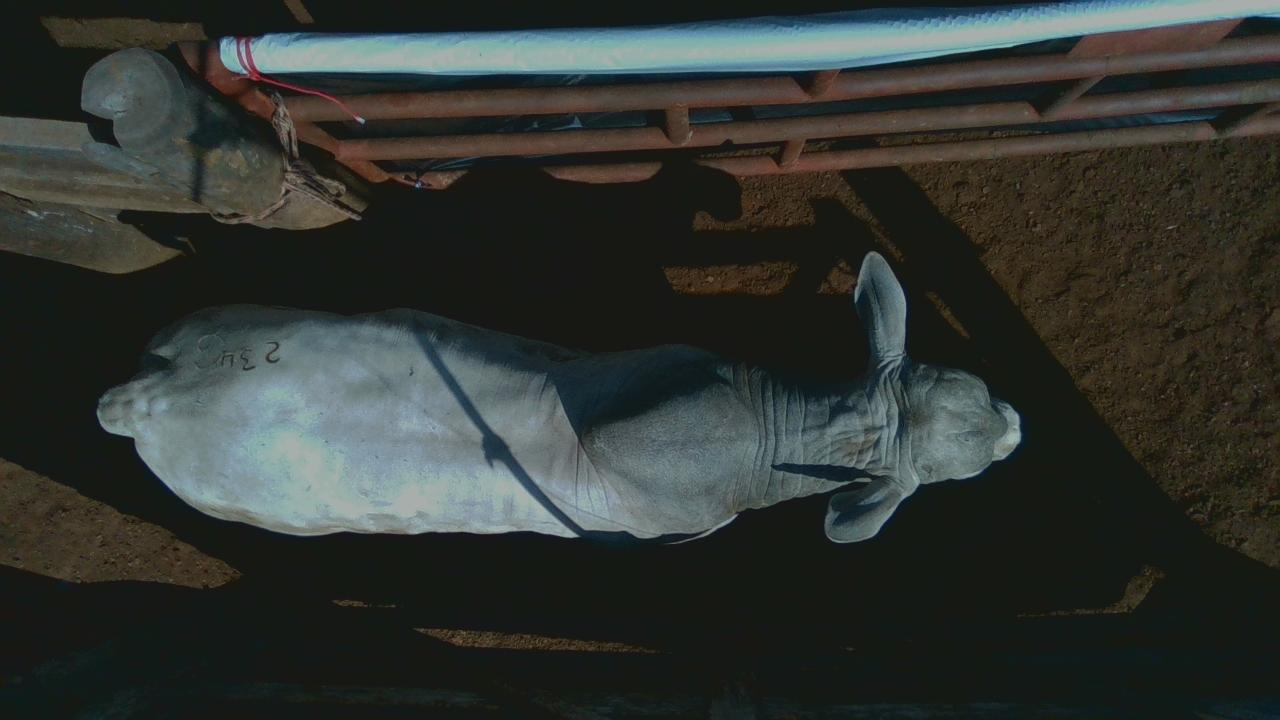cattle: (95, 249, 1022, 546)
